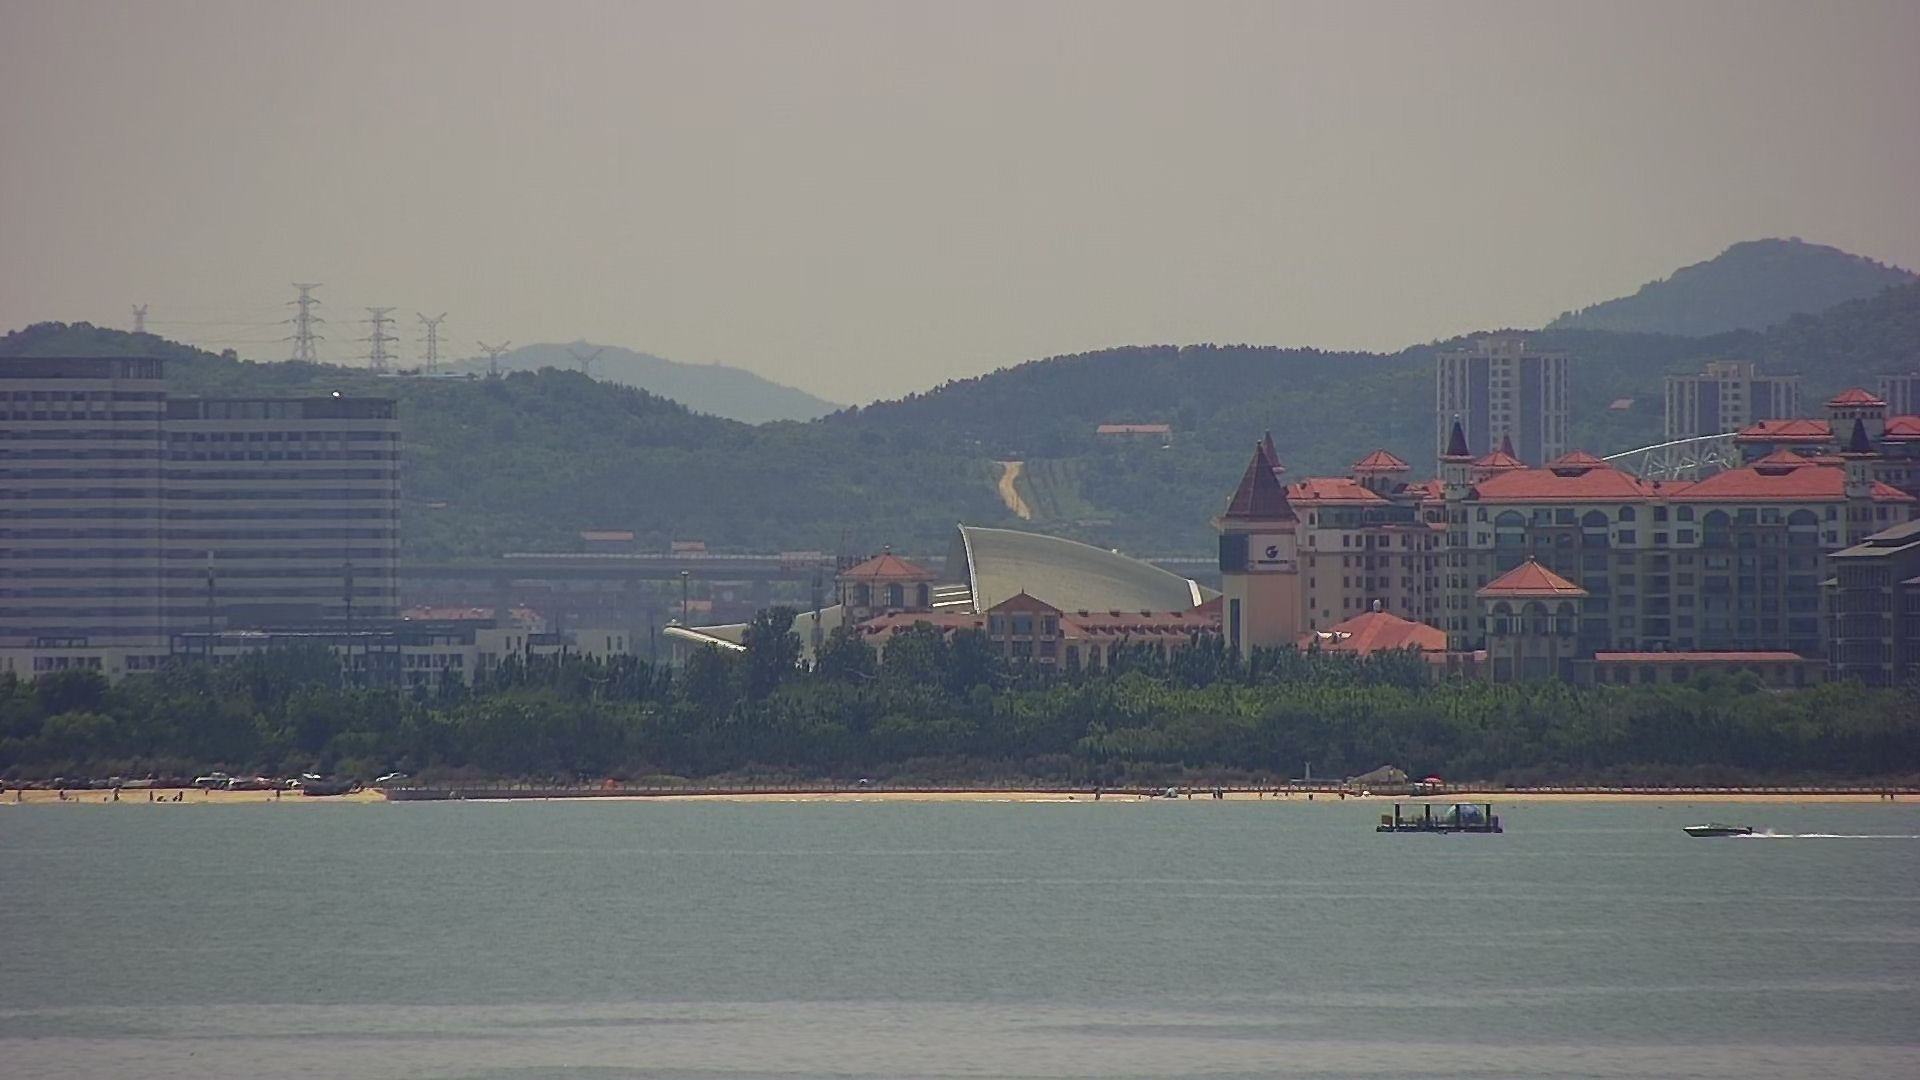boat: (1681, 812, 1759, 841)
platform: (1371, 800, 1505, 841)
